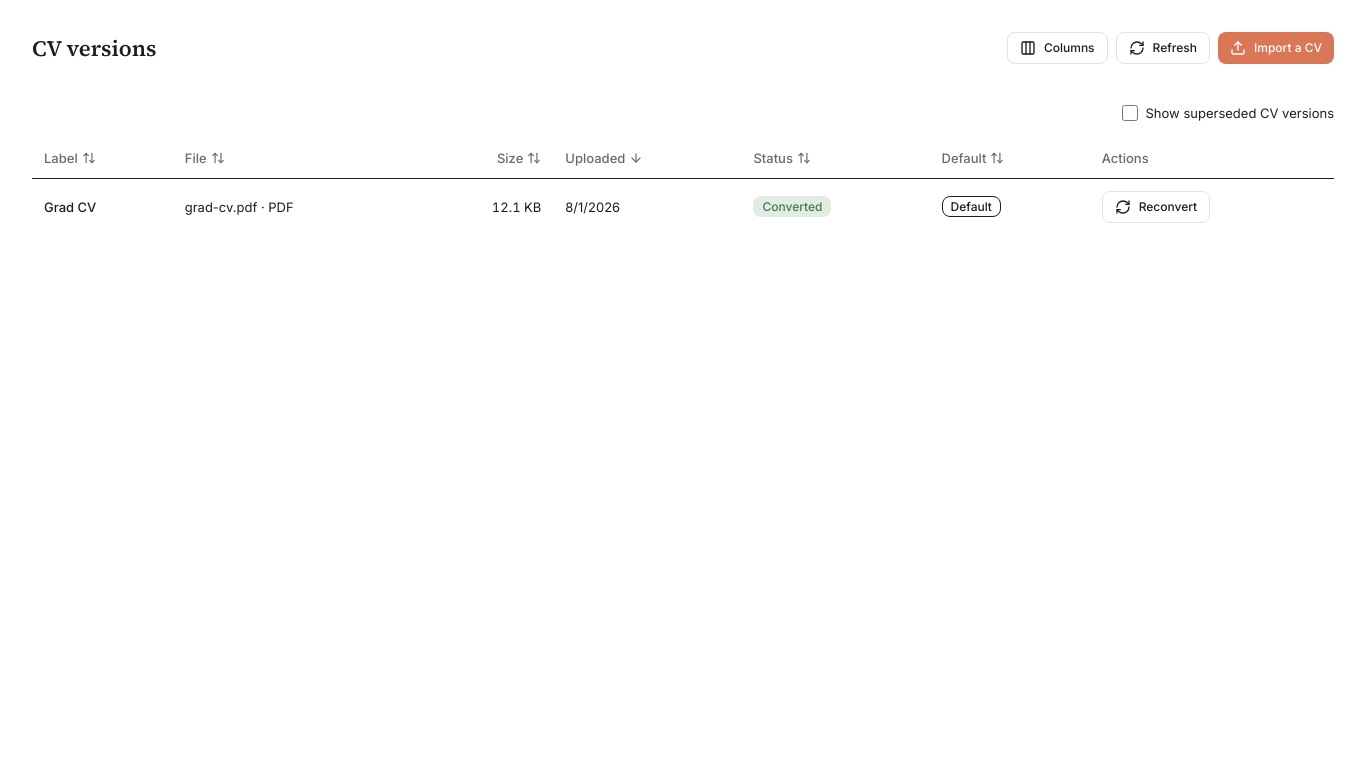
Test case: CvVersionsPage — list › shows the CV's full info (file, size, dates, status, default state) in the panel
Click the text "Grad CV" at {"x": 70, "y": 207}, box [32,178,173,235]
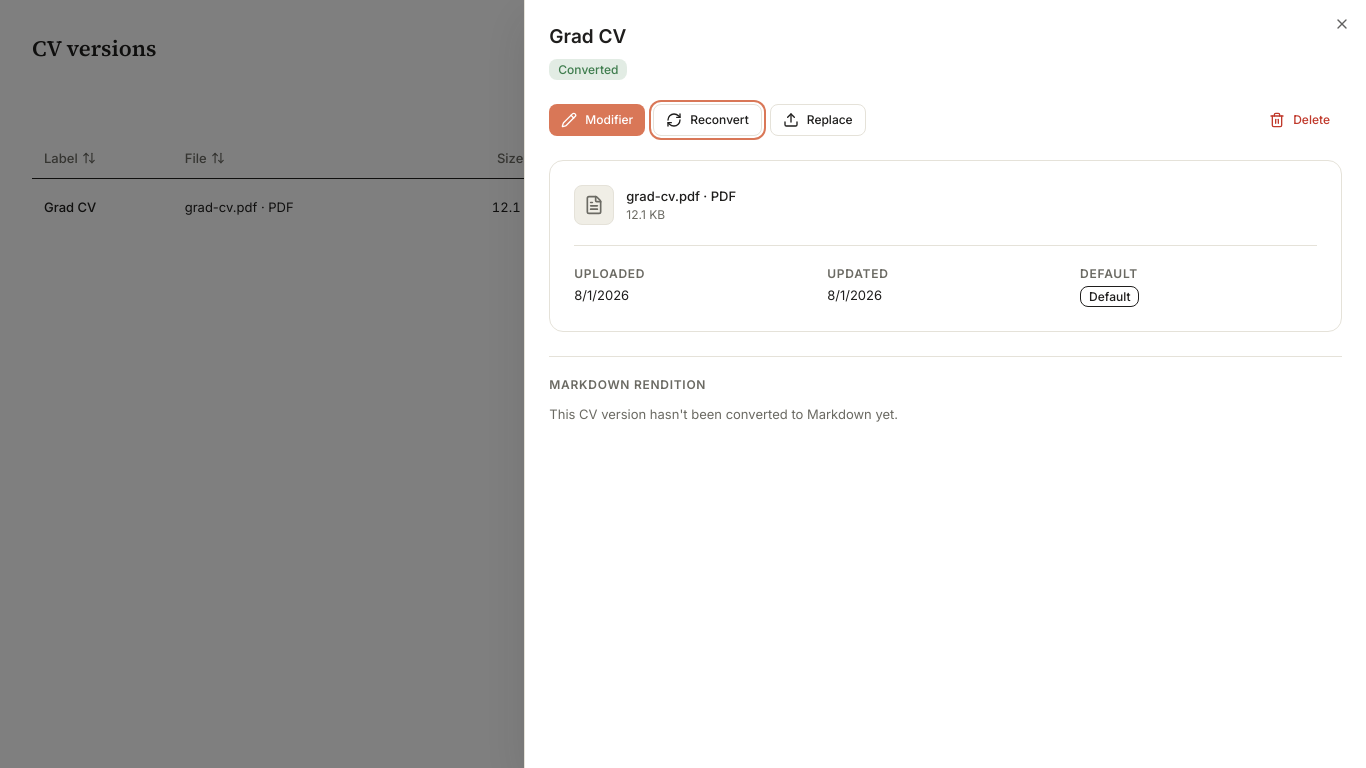
Check: the text "grad-cv.pdf · PDF" is shown, box [626,187,736,206]
Check: the text "12.1 KB" is shown, box [626,208,665,222]
Check: the text "Converted" is shown, box [549,59,627,80]
